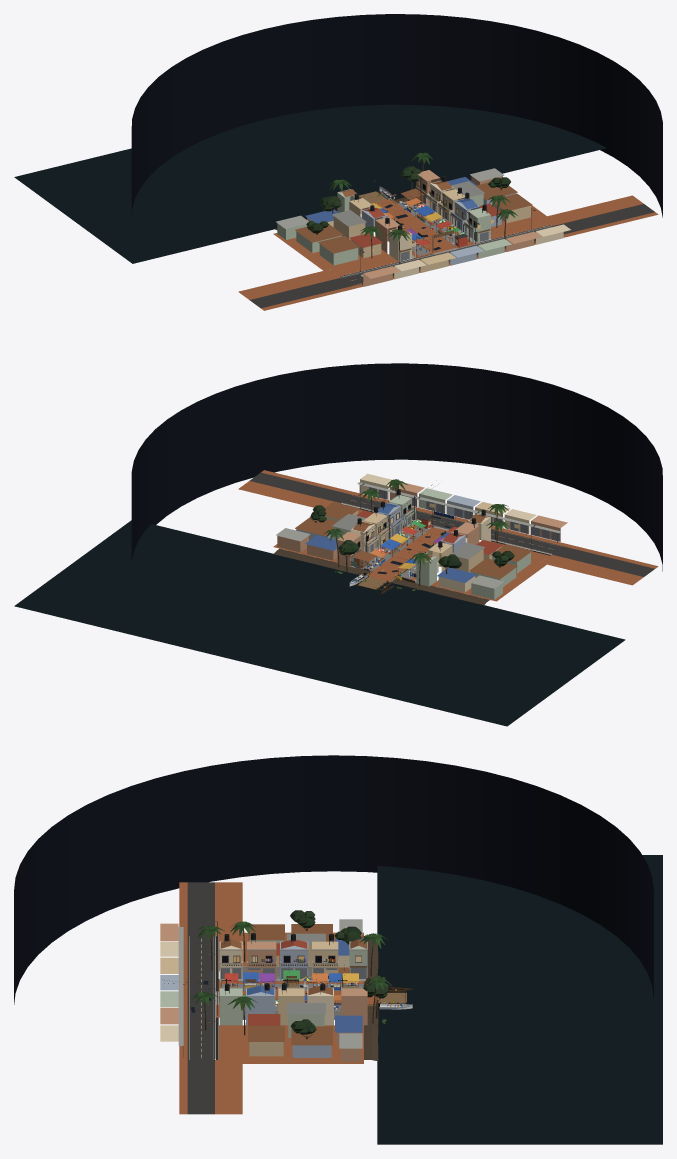
File: sapele.glb
3 views of the same model, one above another, from view 1: azimuth 30°, elevation 25°; view 2: azimuth 150°, elevation 25°; view 3: azimuth 270°, elevation 25° (orthographic). The views are drawn at different scales.
Visible parts, largest first — view 1: Pano, Water, Env; view 2: Water, Pano, Env; view 3: Pano, Water, Env.
Boxes of the visible parts, x1,y1,x2,y2 form: Pano: (131, 14, 662, 217); Water: (14, 104, 606, 263); Env: (238, 152, 658, 310); Water: (14, 520, 625, 726); Pano: (131, 363, 662, 571); Env: (238, 470, 658, 605); Pano: (14, 755, 653, 1004); Water: (377, 855, 662, 1144); Env: (160, 882, 412, 1114).
Size of the model in its own units: 150 by 28 by 142.
